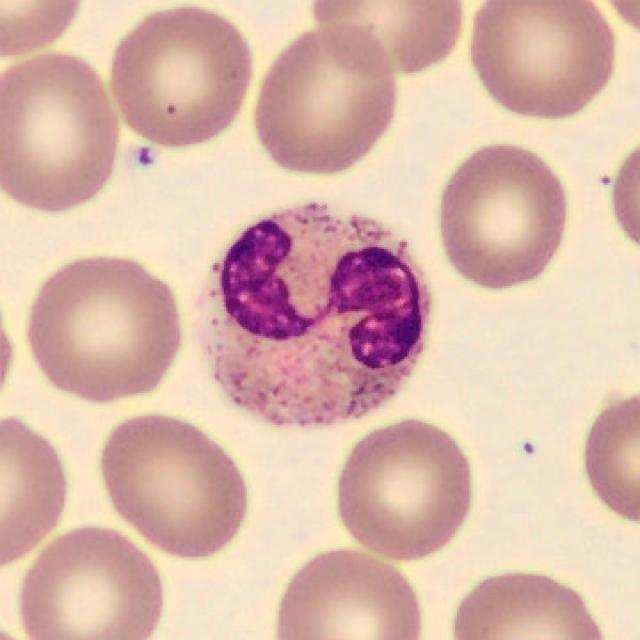Neutrofilo segmentado: (197, 203, 428, 423)
